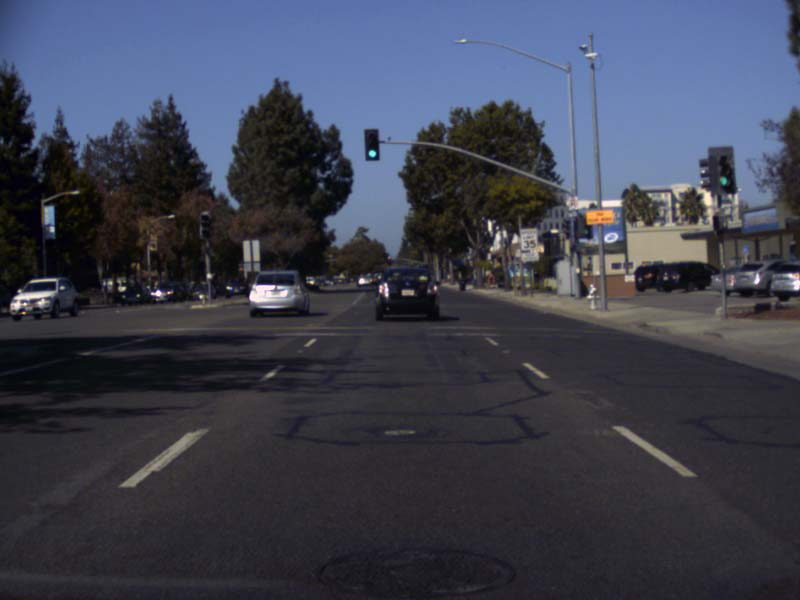Green: (713, 153, 730, 185), (366, 128, 378, 160), (582, 218, 588, 238)
